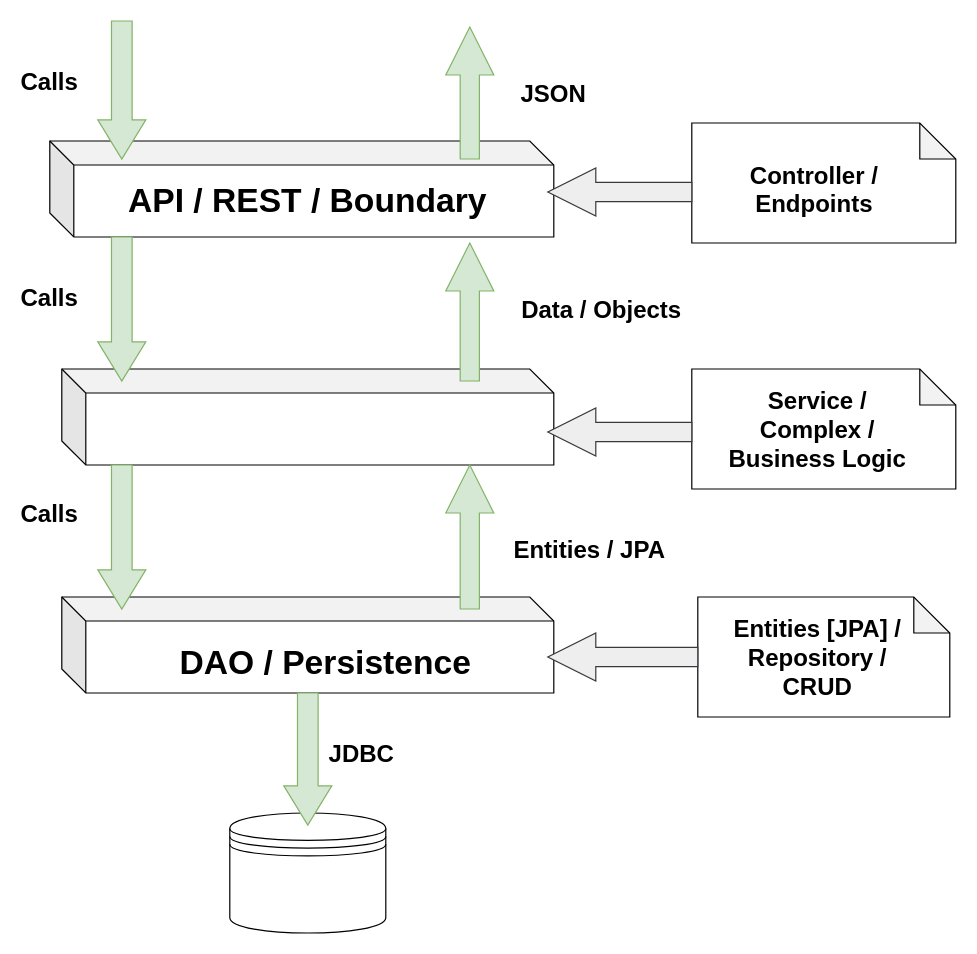
Image size: 977x954. Some labels were removed from this diagram. The shapes that lost their labels are listed below. From the top down, each one's centre as x and y in pixels, then its label:
At (x=307, y=416): "Domain / Service / Facade".
At (x=307, y=872): "MySQL".
